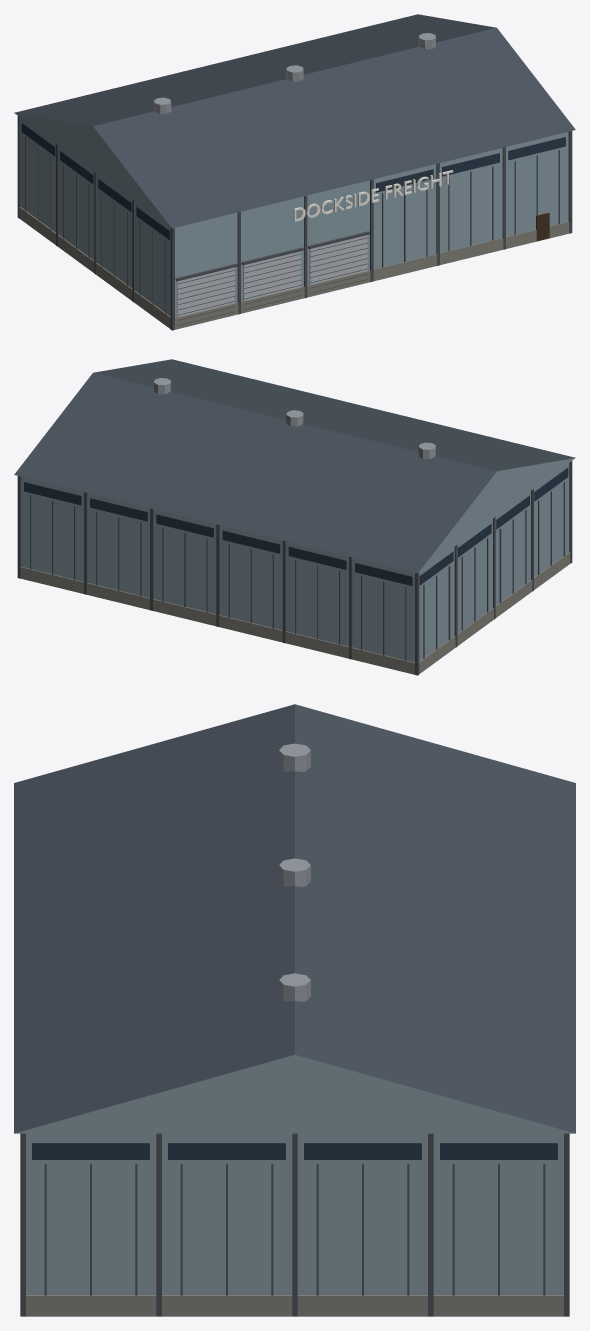
3 renders of one model, top to bottom at view 1: azimuth 30°, elevation 25°; view 2: azimuth 150°, elevation 25°; view 3: azimuth 270°, elevation 25°, orthographic. The views are drawn at different scales.
Parts seen in each view (by area): view 1: wh_a; view 2: wh_a; view 3: wh_a.
Part boxes in pixels (<box>): wh_a: <box>14,14,575,330</box>; wh_a: <box>14,359,575,675</box>; wh_a: <box>14,704,575,1316</box>.
Size of what is drawn, in the model's own units: 36.6 by 13.54 by 24.8.
